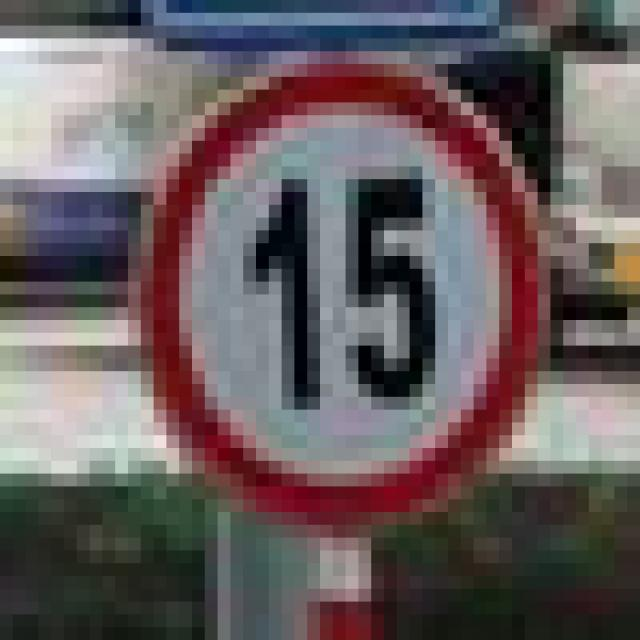SPEED_LIMIT_15: (115, 38, 538, 500)
